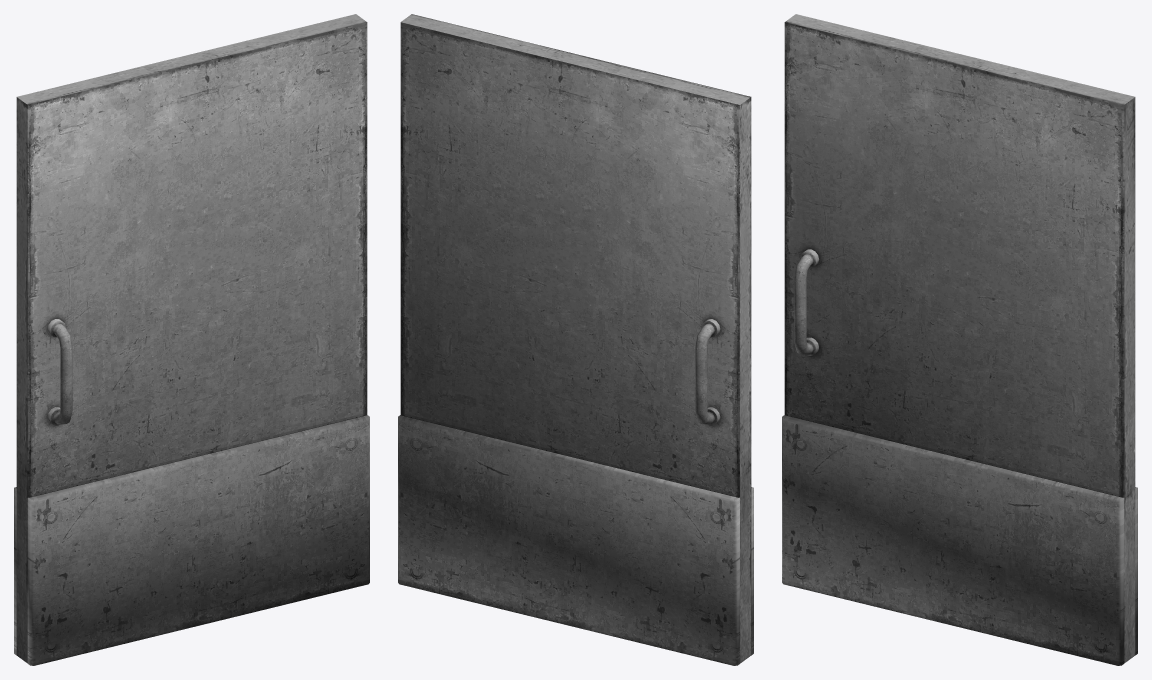
Rendered from swingdoor_metal_flesher_door.DAE.
The picture shows the model from 3 angles, left to right: view 1: azimuth 30°, elevation 25°; view 2: azimuth 150°, elevation 25°; view 3: azimuth 330°, elevation 25°; orthographic projection.
Parts seen in each view (by area): view 1: swingdoor_metal_flesher_door; view 2: swingdoor_metal_flesher_door; view 3: swingdoor_metal_flesher_door.
Part boxes in pixels (x1=…): swingdoor_metal_flesher_door: x1=14, y1=14, x2=369, y2=665; swingdoor_metal_flesher_door: x1=398, y1=14, x2=753, y2=665; swingdoor_metal_flesher_door: x1=782, y1=14, x2=1137, y2=665.
Size of the model in its own units: 1.75 by 0.3604 by 2.75.
